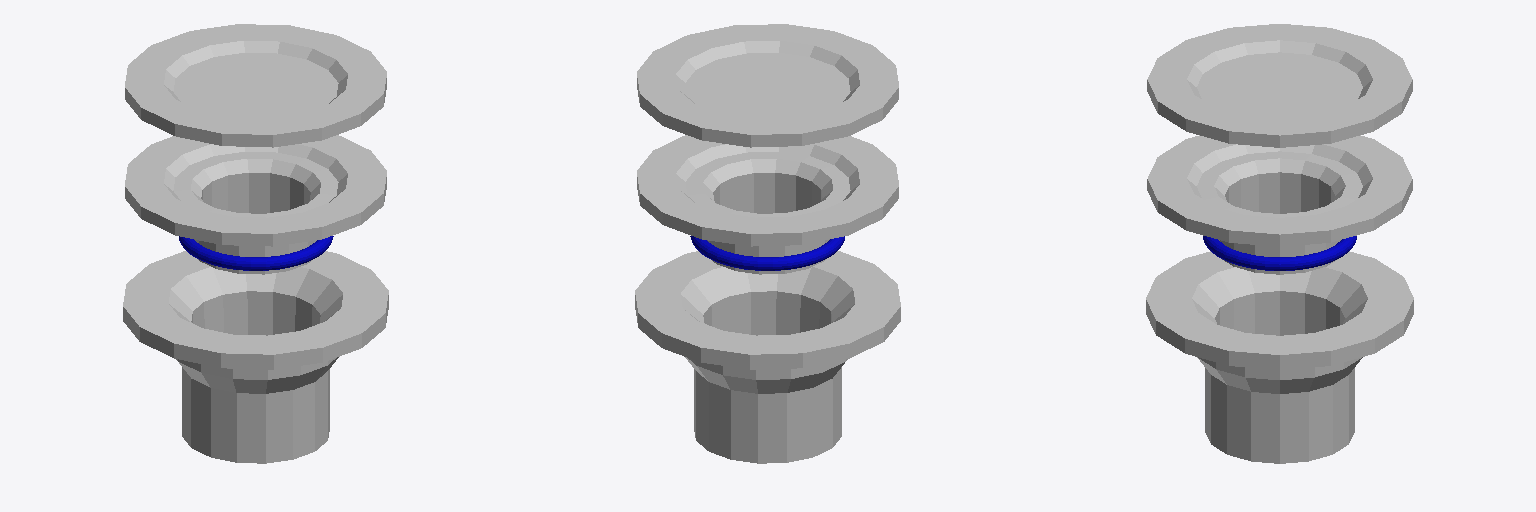
The model's file is fakeflange.obj.
The picture shows the model from 3 angles: view 1: azimuth 30°, elevation 25°; view 2: azimuth 150°, elevation 25°; view 3: azimuth 270°, elevation 25°; orthographic projection.
Parts seen in each view (by area): view 1: Cylinder, Cylinder.2, Cylinder.1, Torus; view 2: Cylinder, Cylinder.2, Cylinder.1, Torus; view 3: Cylinder, Cylinder.2, Cylinder.1, Torus.
Part boxes in pixels (x1,y1,x2,y2): Cylinder: (123, 251, 388, 463); Cylinder.2: (125, 24, 386, 147); Cylinder.1: (125, 135, 386, 274); Torus: (179, 236, 333, 270); Cylinder: (635, 251, 900, 463); Cylinder.2: (637, 24, 898, 147); Cylinder.1: (637, 135, 898, 274); Torus: (690, 236, 844, 270); Cylinder: (1146, 251, 1413, 463); Cylinder.2: (1147, 24, 1412, 147); Cylinder.1: (1147, 135, 1412, 274); Torus: (1203, 236, 1356, 270).
Bounding box in the file's own units: 13.12 × 19.04 × 13.12.